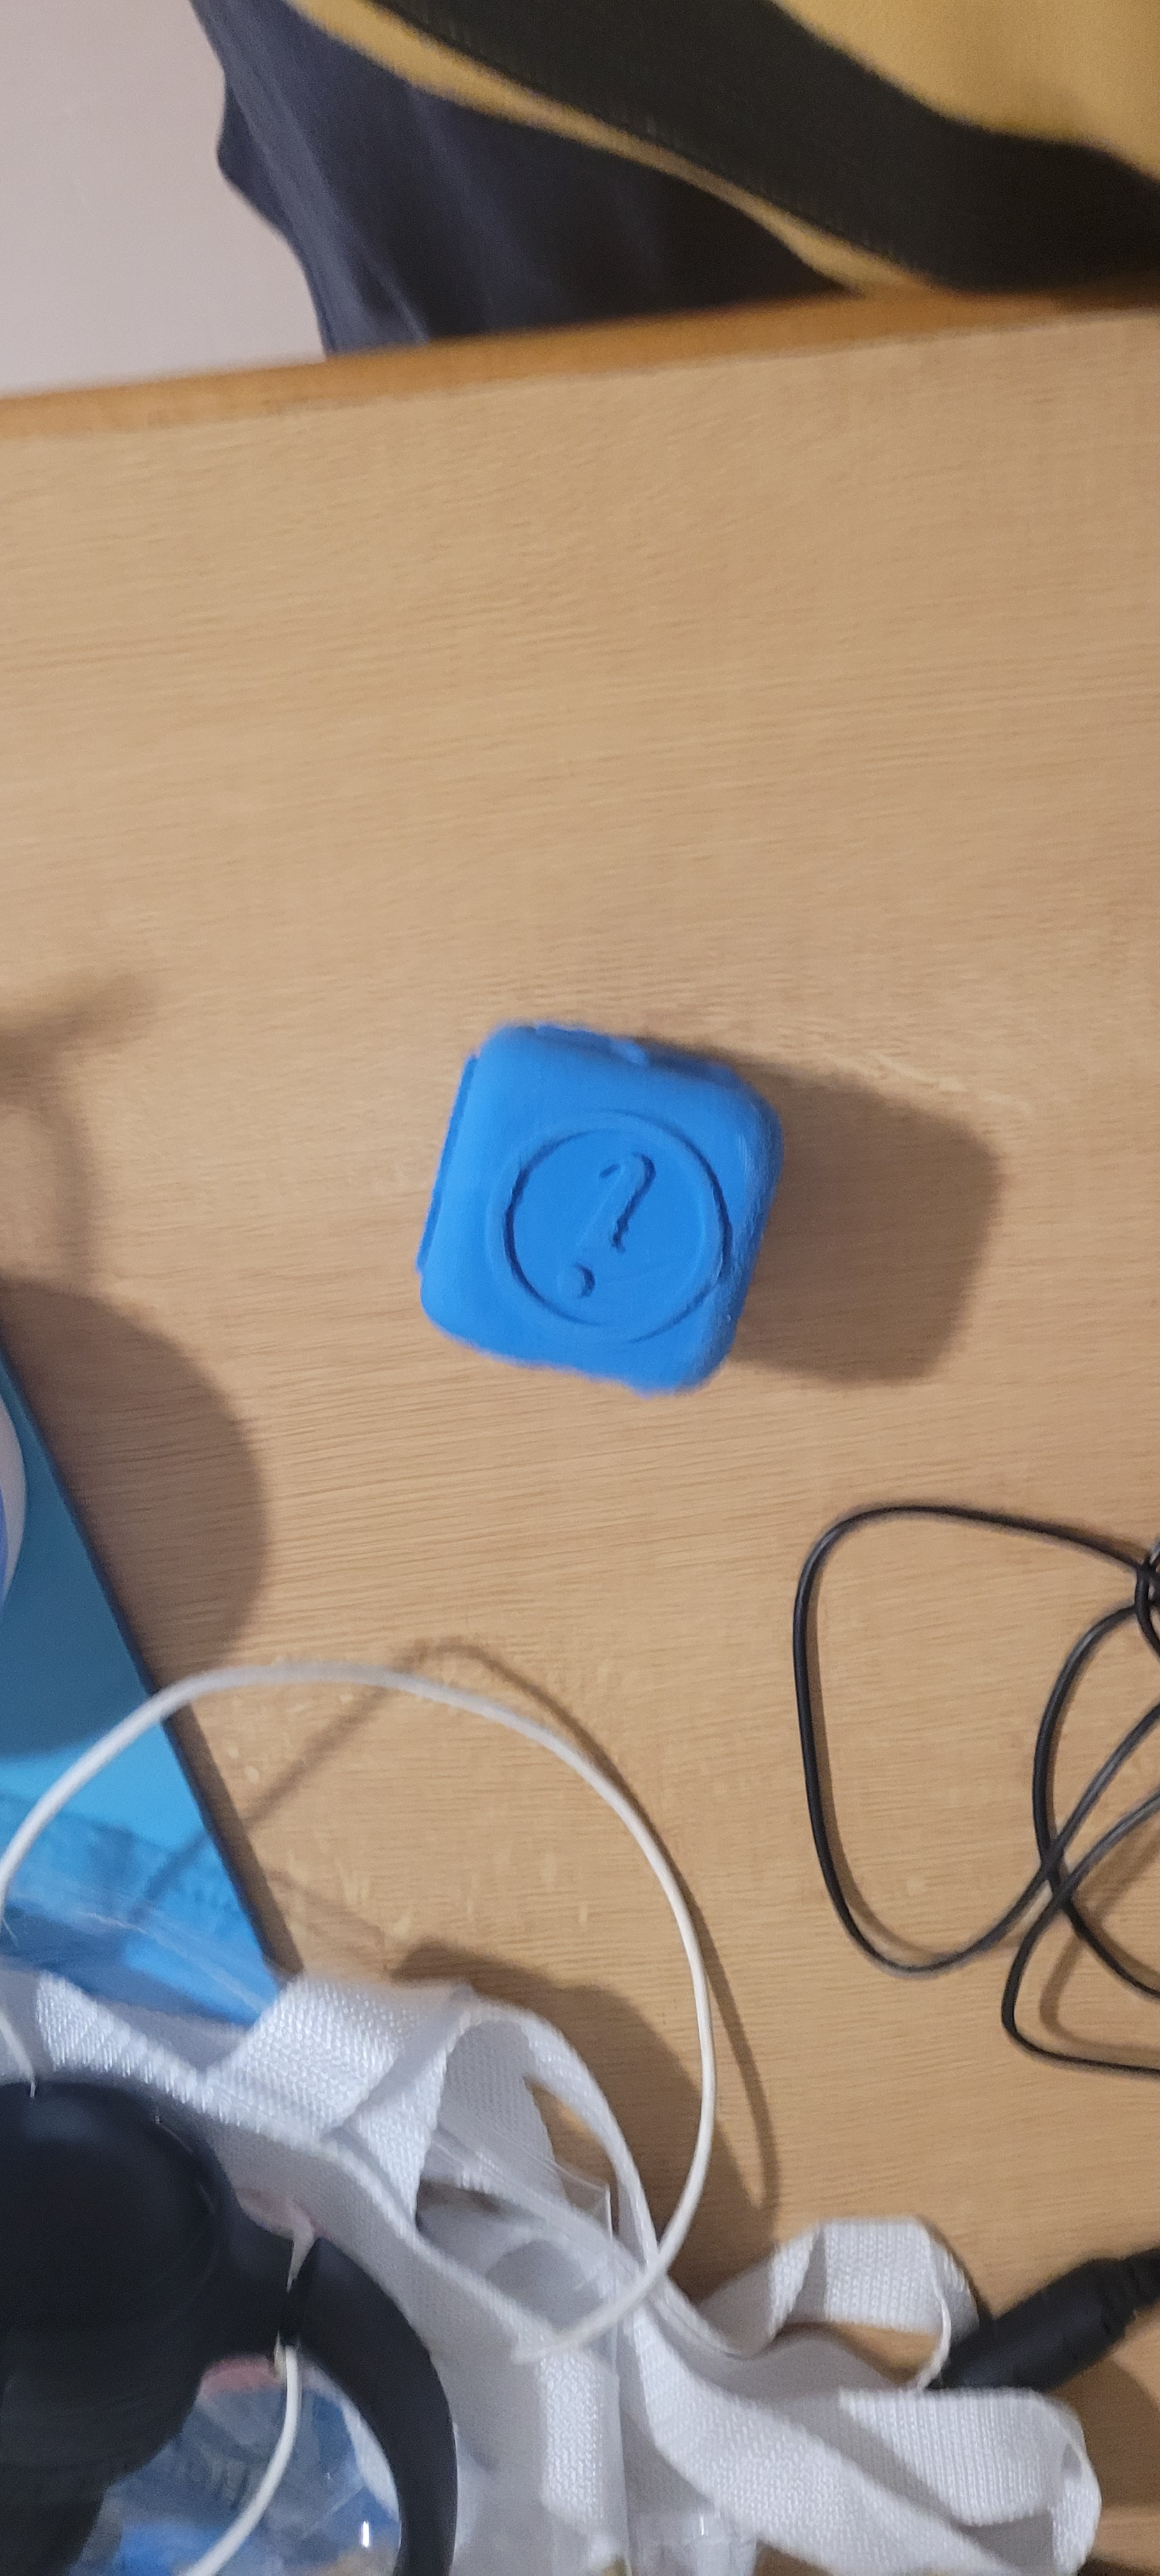Info: (513, 1112, 688, 1341)
